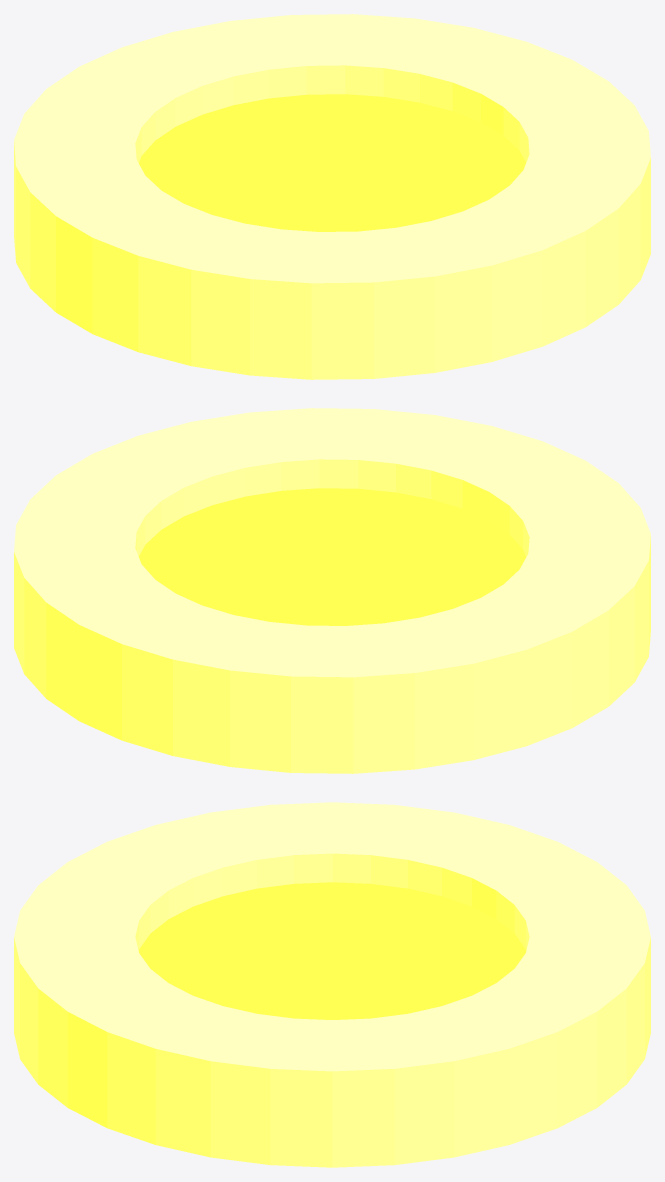
File: Coin.fbx
The picture shows the model from 3 angles, top to bottom: view 1: azimuth 30°, elevation 25°; view 2: azimuth 150°, elevation 25°; view 3: azimuth 270°, elevation 25°; orthographic projection.
Visible parts, largest first — view 1: Cylinder; view 2: Cylinder; view 3: Cylinder.
Part boxes in pixels (bbox=[...]): Cylinder: bbox=[14, 14, 650, 379]; Cylinder: bbox=[14, 408, 650, 773]; Cylinder: bbox=[14, 802, 650, 1167].
Size of the model in its own units: 200 by 33.36 by 200.
